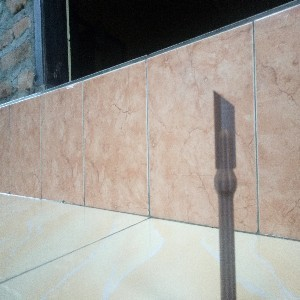cutter: (211, 88, 239, 300)
